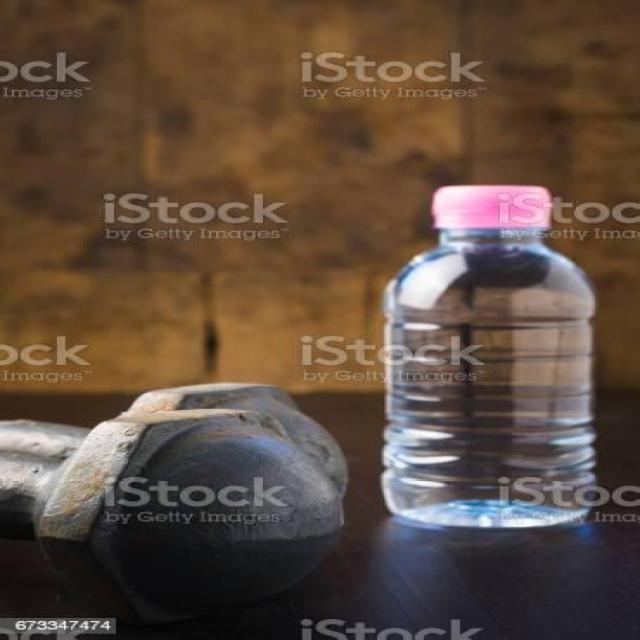bottle: (369, 178, 626, 535)
